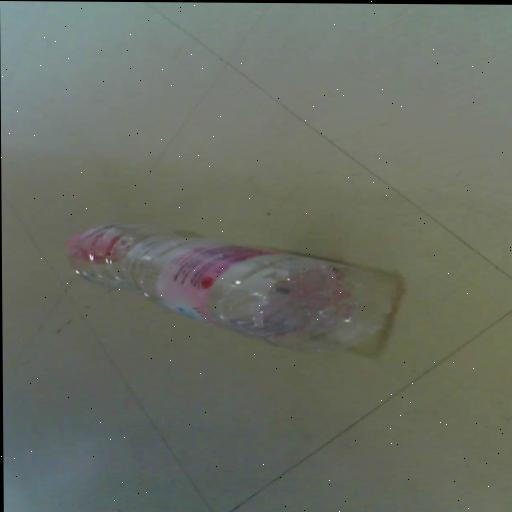bottle: (38, 208, 419, 367)
